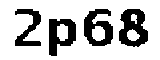2: (11, 4, 44, 51)
6: (83, 5, 113, 53)
8: (119, 4, 150, 48)
p: (46, 13, 76, 60)
